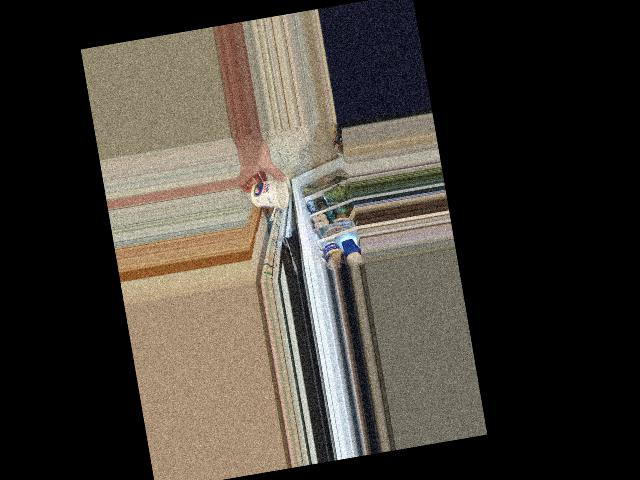cotage: (248, 174, 292, 211)
